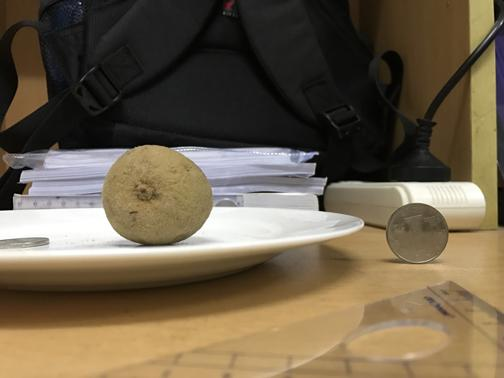coin: (386, 202, 449, 263)
qiwi: (103, 146, 212, 245)
